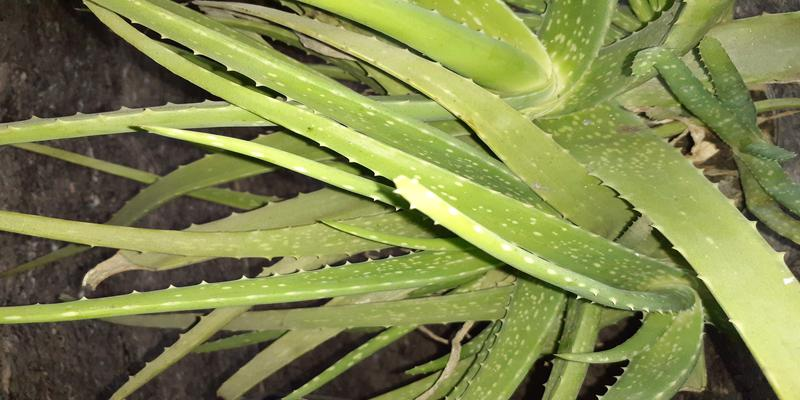Aloevera: (179, 18, 777, 362)
